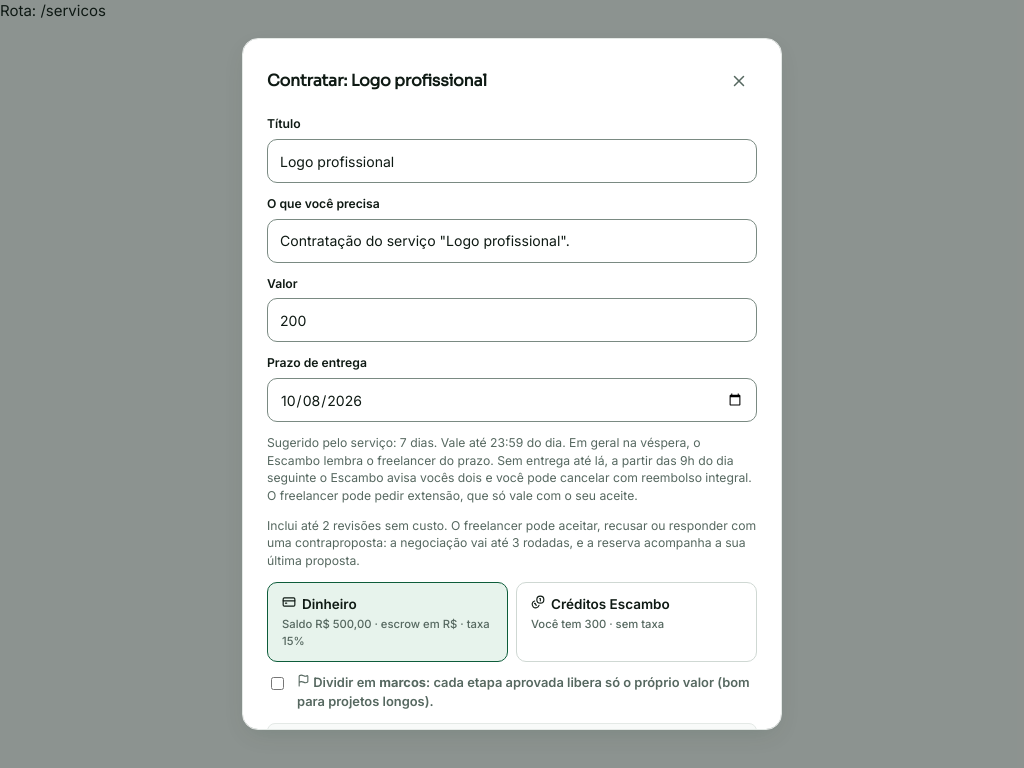
Test: ContratarModal: proposta em dinheiro › informa revisões gratuitas por entrega/marco e só promete reserva em dinheiro
Expected: the text with test id "contract-rules-hint" shows "Inclui até 2 revisões sem custo.", [267, 517, 757, 570]
Expected: the text with test id "contract-rules-hint" shows "a negociação vai até 3 rodadas, e a reserva acompanha a sua última proposta.", [267, 517, 757, 570]
Click the checkbox labelled "Dividir em marcos" at (278, 684), box [271, 677, 284, 690]
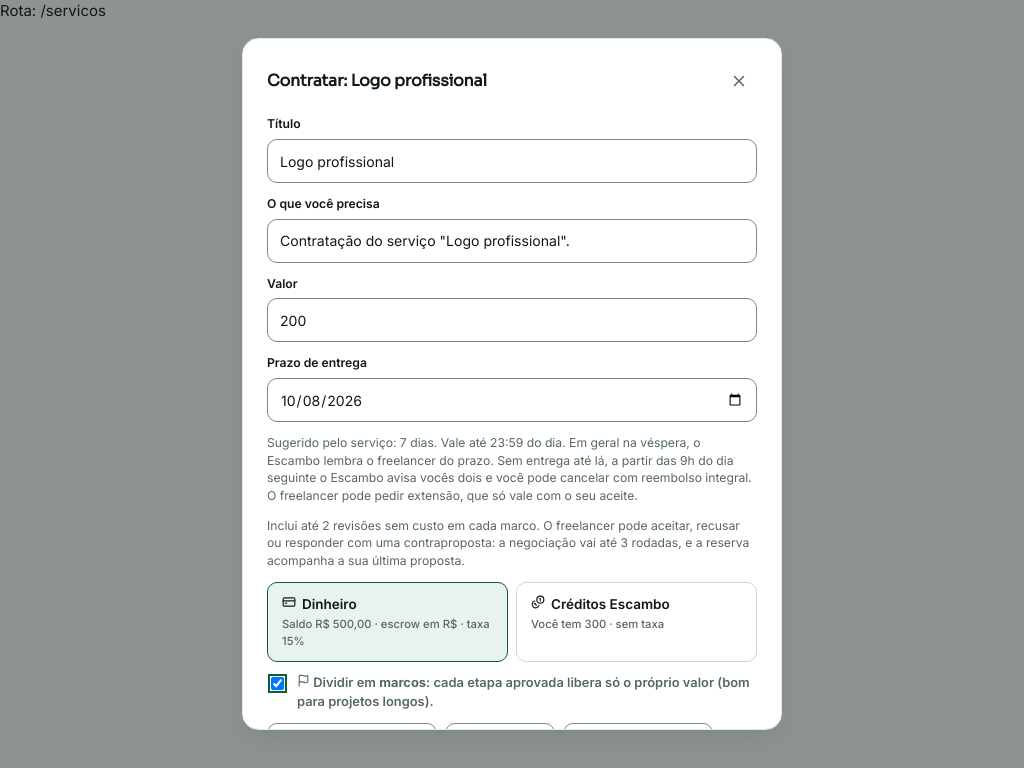
Now the text with test id "contract-rules-hint" shows "Inclui até 2 revisões sem custo em cada marco.", box [267, 517, 757, 570]
Click the radio button labelled "Créditos Escambo Você tem 300 · sem taxa" at (636, 622), box [516, 582, 757, 662]
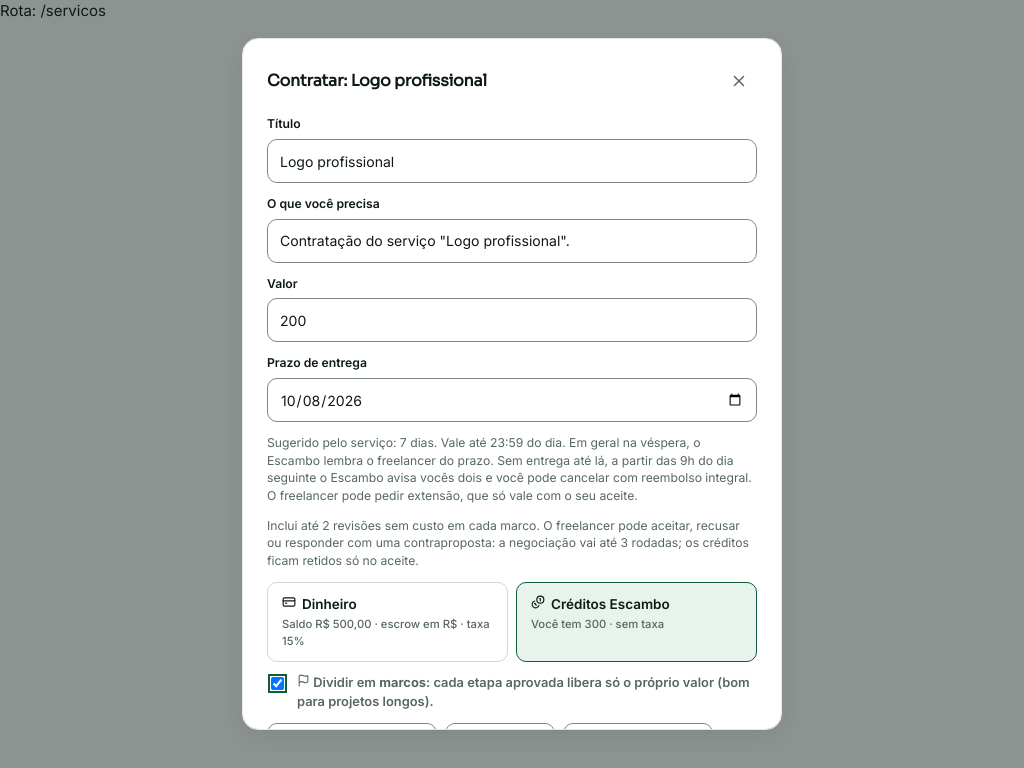
Now the text with test id "contract-rules-hint" shows "os créditos ficam retidos só no aceite.", box [267, 536, 749, 568]
Now the text with test id "contract-rules-hint" no longer shows "reserva acompanha", box [267, 517, 757, 570]
